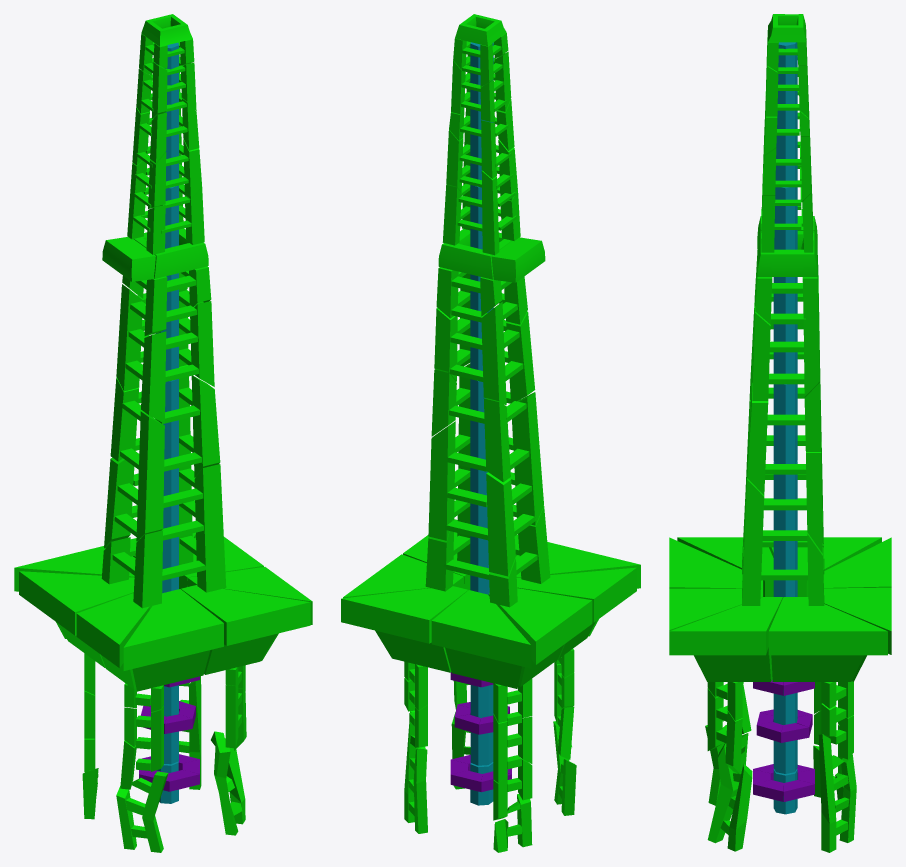
The model's file is Desert_Priority_target_Broken.fbx.
3 views of the same model, side by side, from view 1: azimuth 30°, elevation 25°; view 2: azimuth 150°, elevation 25°; view 3: azimuth 270°, elevation 25° (orthographic).
Parts seen in each view (by area): view 1: polySurface156, BASE, polySurface152, polySurface159, polySurface157, polySurface170, polySurface169, polySurface173, polySurface166, polySurface168, polySurface153, polySurface181 (+29 smaller); view 2: polySurface158, polySurface154, BASE, polySurface159, polySurface157, polySurface169, polySurface178, polySurface183, polySurface155, polySurface181, polySurface156, polySurface182 (+33 smaller); view 3: polySurface155, BASE, polySurface153, polySurface156, polySurface158, polySurface214, polySurface170, polySurface154, polySurface152, polySurface209, polySurface160, polySurface211 (+35 smaller).
Boxes of the visible parts, <box> form: polySurface156: <box>123,589,223,691</box>; BASE: <box>82,676,245,852</box>; polySurface152: <box>181,585,310,674</box>; polySurface159: <box>19,571,134,668</box>; polySurface157: <box>76,593,149,689</box>; polySurface170: <box>194,464,226,592</box>; polySurface169: <box>136,411,164,541</box>; polySurface173: <box>191,375,220,477</box>; polySurface166: <box>133,530,163,609</box>; polySurface168: <box>141,331,166,423</box>; polySurface153: <box>187,567,312,660</box>; polySurface181: <box>116,284,142,391</box>; polySurface158: <box>431,590,531,688</box>; polySurface154: <box>341,586,468,672</box>; BASE: <box>404,710,576,852</box>; polySurface159: <box>488,588,592,686</box>; polySurface157: <box>516,567,636,658</box>; polySurface169: <box>512,392,543,525</box>; polySurface178: <box>428,421,455,540</box>; polySurface183: <box>486,472,515,576</box>; polySurface155: <box>343,554,464,598</box>; polySurface181: <box>481,302,506,404</box>; polySurface156: <box>515,542,640,636</box>; polySurface182: <box>483,398,510,482</box>; polySurface155: <box>768,597,887,681</box>; BASE: <box>705,725,856,852</box>; polySurface153: <box>669,597,782,681</box>; polySurface156: <box>669,537,763,588</box>; polySurface158: <box>823,537,891,588</box>; polySurface214: <box>773,461,797,597</box>; polySurface170: <box>742,477,764,605</box>; polySurface154: <box>824,587,891,681</box>; polySurface152: <box>669,588,763,630</box>; polySurface209: <box>775,42,797,180</box>; polySurface160: <box>757,230,817,276</box>; polySurface211: <box>773,384,797,463</box>.
Bounding box in the file's own units: 99.56 × 398 × 99.56.
